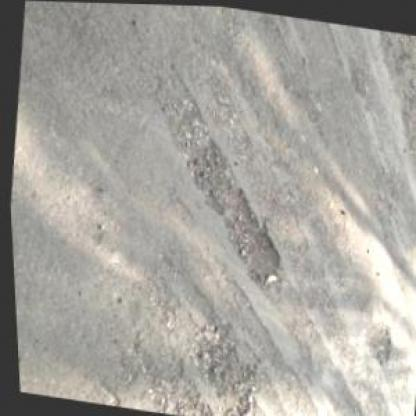pothole: (166, 135, 297, 298), (176, 314, 264, 414), (161, 374, 215, 414), (354, 316, 395, 368)
